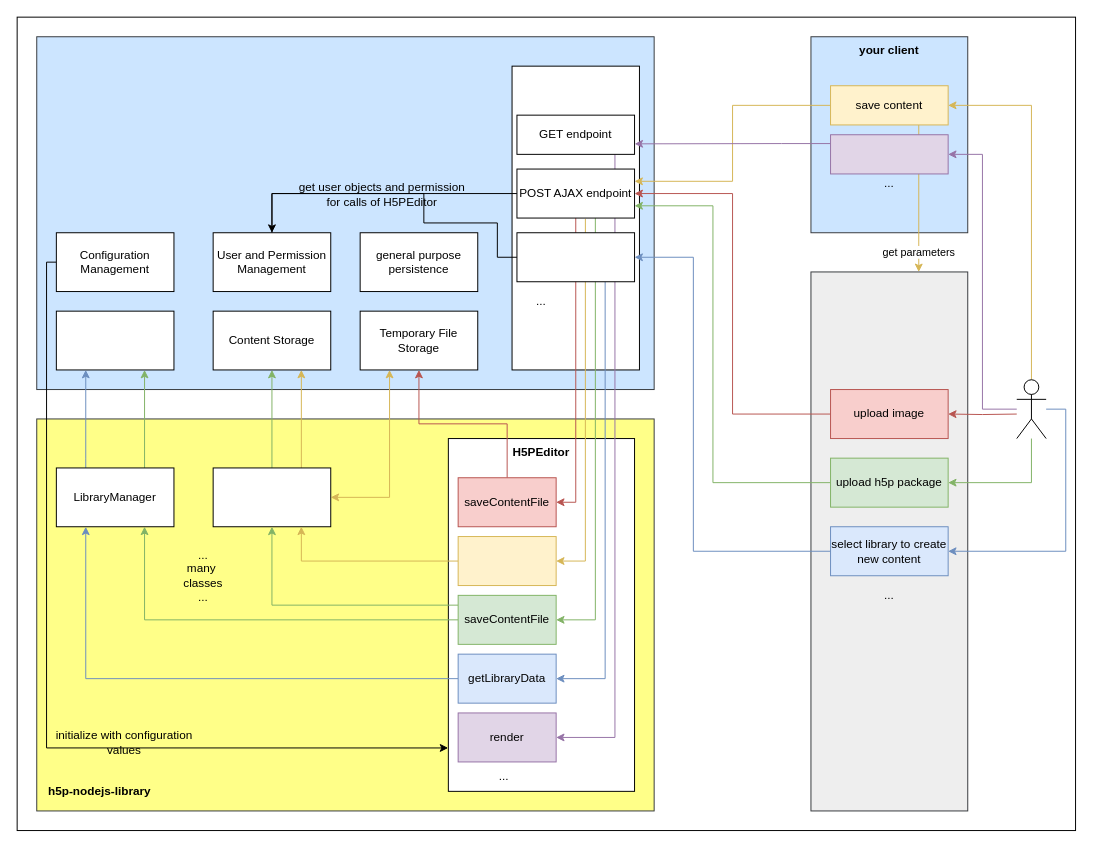
Image size: 1093x848. Some labels were removed from this diagram. The box of each missing label's shape, as (x1, y1, x2, y2) in pixels:
ContentManager: (212, 467, 331, 527)
display content: (830, 134, 948, 174)
GET AJAX endpoint: (516, 232, 635, 282)
h5p editor client (downloaded from Joubel's PHP implementation): (810, 271, 968, 811)
HTTP endpoints: (511, 65, 639, 370)
Library Storage: (55, 310, 174, 370)
saveH5P: (457, 536, 556, 586)
User: (1016, 379, 1046, 439)
your server implementation: (36, 36, 654, 390)
